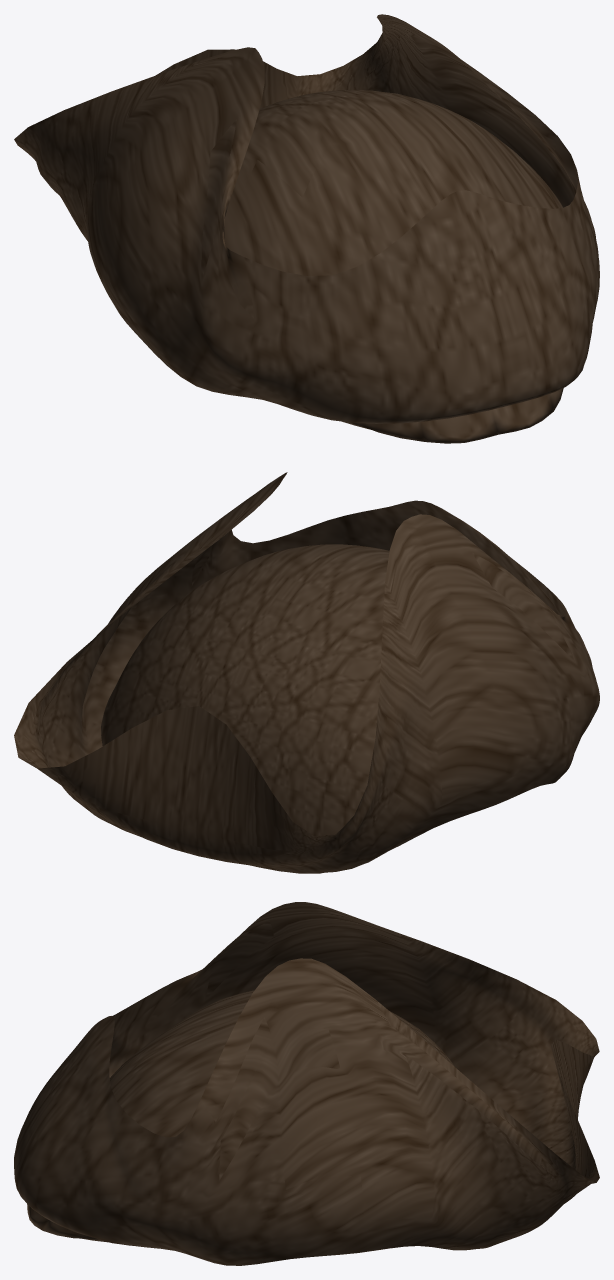
The model's file is Pirate hat.fbx.
3 views of the same model, one above another, from view 1: azimuth 30°, elevation 25°; view 2: azimuth 150°, elevation 25°; view 3: azimuth 270°, elevation 25° (orthographic). The views are drawn at different scales.
Parts seen in each view (by area): view 1: Icosphere; view 2: Icosphere; view 3: Icosphere.
Part boxes in pixels (x1=…): Icosphere: x1=14, y1=14, x2=599, y2=443; Icosphere: x1=14, y1=472, x2=599, y2=873; Icosphere: x1=14, y1=902, x2=599, y2=1265.
Bounding box in the file's own units: 332 × 213 × 422.
